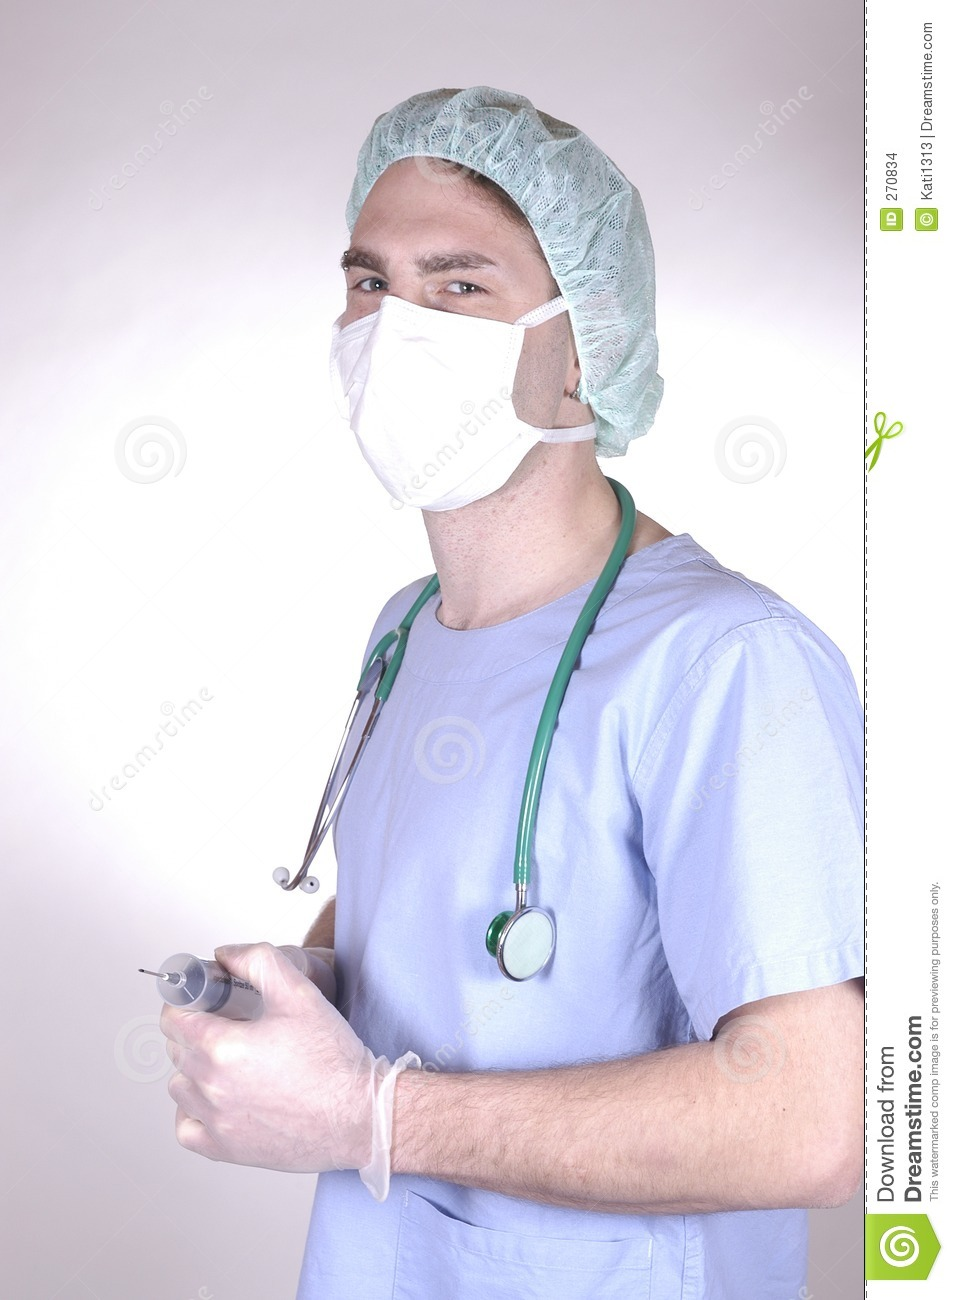mask: (327, 315, 539, 521)
